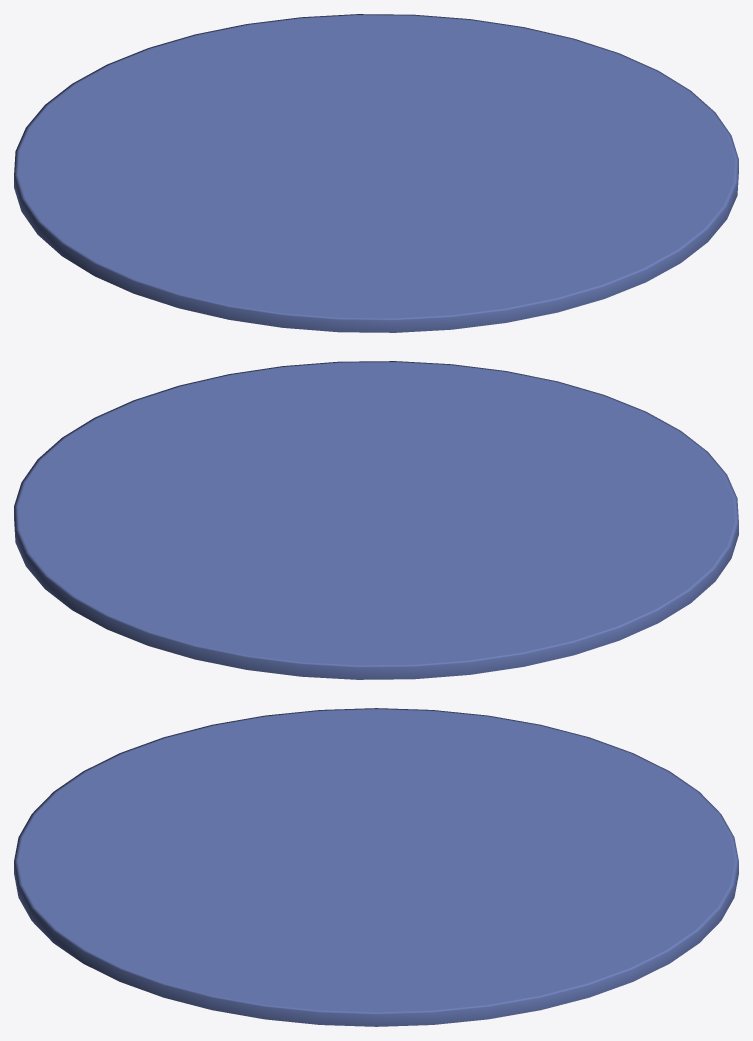
The model's file is Cylindre_Watch_01.fbx.
3 views of the same model, one above another, from view 1: azimuth 30°, elevation 25°; view 2: azimuth 150°, elevation 25°; view 3: azimuth 270°, elevation 25° (orthographic).
Parts seen in each view (by area): view 1: Cylindre_Watch_01; view 2: Cylindre_Watch_01; view 3: Cylindre_Watch_01.
Part boxes in pixels (x1,y1,x2,y2): Cylindre_Watch_01: (14,14,738,332); Cylindre_Watch_01: (14,361,738,679); Cylindre_Watch_01: (14,708,738,1026).
Size of the model in its own units: 34.97 by 0.7221 by 34.97.
